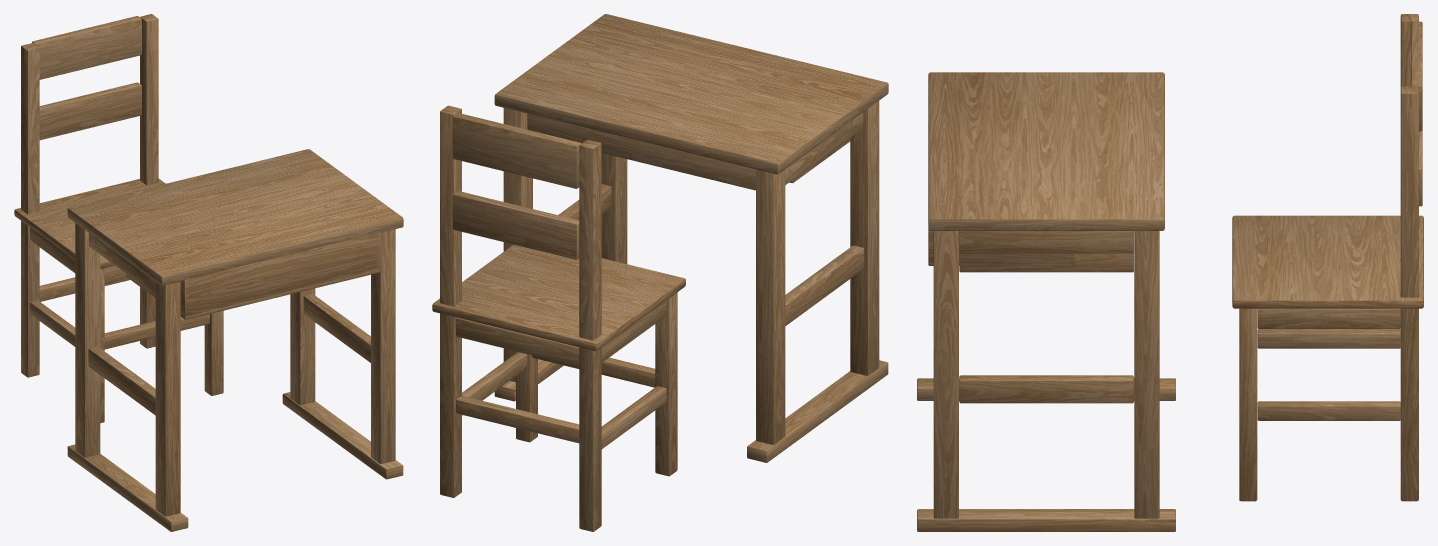
Rendered from props.glb.
3 views of the same model, side by side, from view 1: azimuth 30°, elevation 25°; view 2: azimuth 150°, elevation 25°; view 3: azimuth 270°, elevation 25° (orthographic). The views are drawn at different scales.
Visible parts, largest first — view 1: desk, chair; view 2: desk, chair; view 3: desk, chair.
Boxes of the visible parts, left/top/right/bottom form: desk: left=67, top=149, right=403, bottom=531; chair: left=14, top=14, right=223, bottom=423; desk: left=494, top=14, right=888, bottom=462; chair: left=432, top=105, right=685, bottom=531; desk: left=917, top=72, right=1175, bottom=531; chair: left=1232, top=14, right=1423, bottom=501.
Bounding box in the file's own units: 0.62 × 0.8 × 0.9.
Materials: 1 (1 with a texture image).
